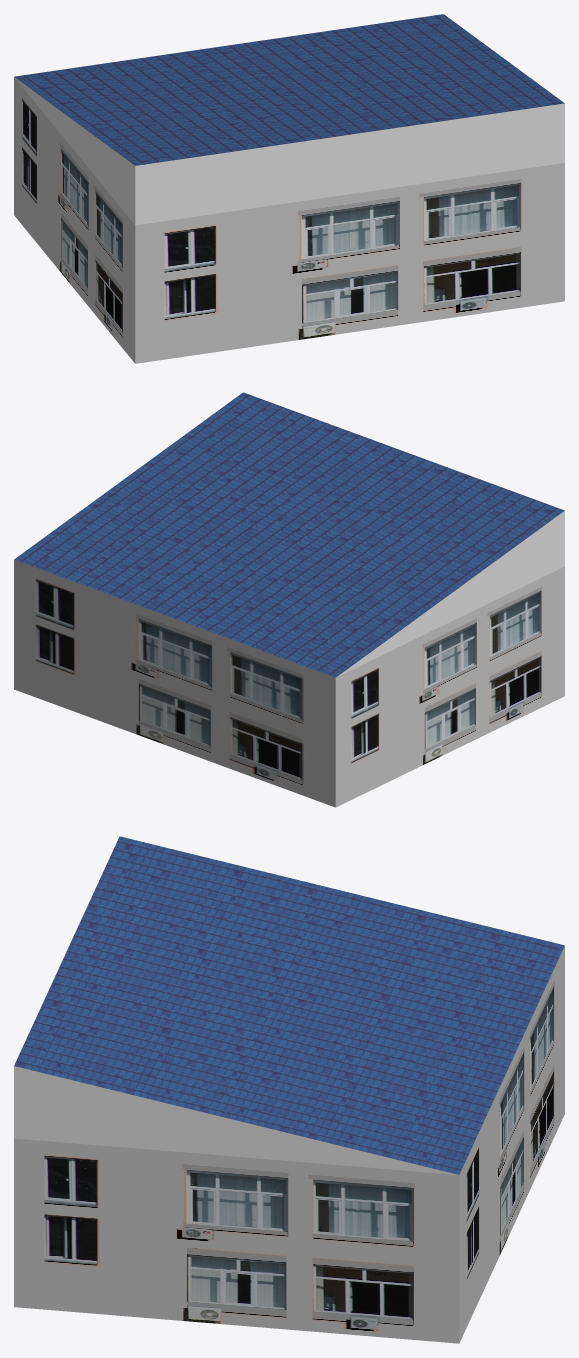
The picture shows the model from 3 angles, top to bottom: view 1: azimuth 30°, elevation 25°; view 2: azimuth 150°, elevation 25°; view 3: azimuth 270°, elevation 25°; orthographic projection. The views are drawn at different scales.
Parts seen in each view (by area): view 1: CityEngineMaterial_9_m, CityEngineMaterial_10_m, CityEngineMaterial_3_m; view 2: CityEngineMaterial_10_m, CityEngineMaterial_9_m, CityEngineMaterial_3_m; view 3: CityEngineMaterial_10_m, CityEngineMaterial_9_m, CityEngineMaterial_3_m.
Boxes of the visible parts, <box> form: CityEngineMaterial_9_m: <box>14,77,564,363</box>; CityEngineMaterial_10_m: <box>14,14,564,165</box>; CityEngineMaterial_3_m: <box>14,77,564,225</box>; CityEngineMaterial_10_m: <box>14,392,564,677</box>; CityEngineMaterial_9_m: <box>14,559,564,807</box>; CityEngineMaterial_3_m: <box>337,511,564,676</box>; CityEngineMaterial_10_m: <box>14,836,564,1174</box>; CityEngineMaterial_9_m: <box>14,946,564,1343</box>; CityEngineMaterial_3_m: <box>14,1066,457,1174</box>.
Size of the model in its own units: 33.29 by 14.06 by 29.11.
